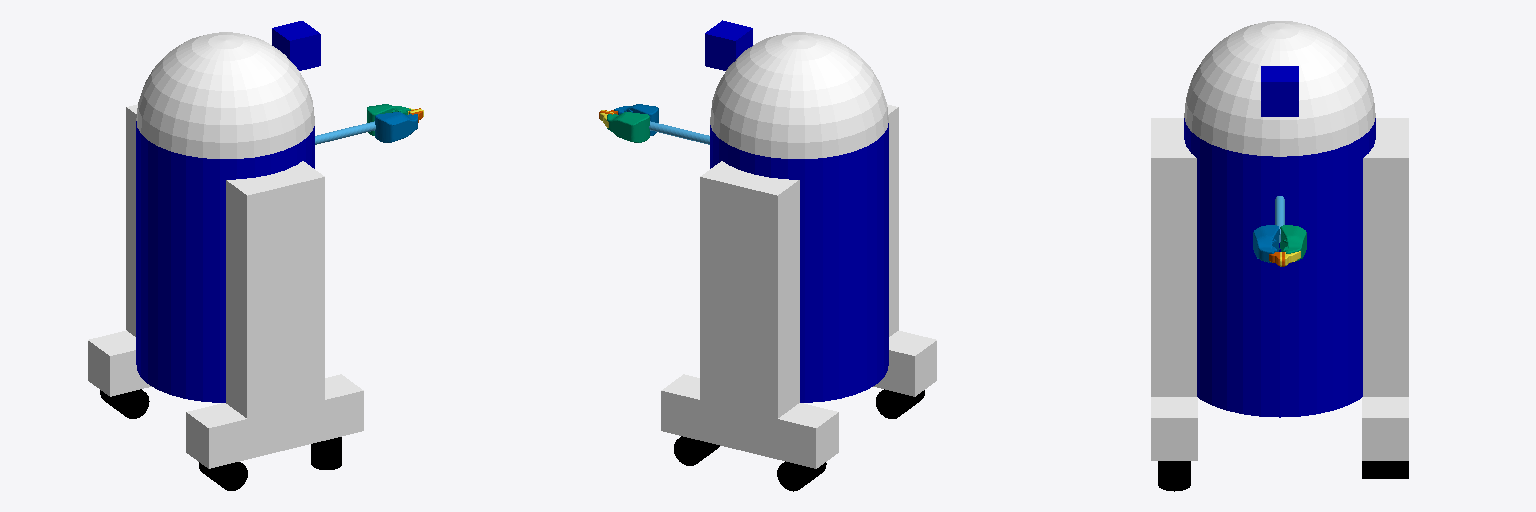
The robot description file, URDF, robot "visual":
<?xml version="1.0"?>
<robot name="visual">

	<material name="blue">
		<color rgba="0 0 0.8 1"/>
	</material>
	<material name="black">
		<color rgba="0 0 0 1"/>
	</material>
	<material name="white">
		<color rgba="1 1 1 1"/>
	</material>

	<link name="base_link">
		<visual>
			<geometry>
				<cylinder length="0.6" radius="0.2"/>
			</geometry>
			<material name="blue"/>
		</visual>
	</link>

	<link name="right_leg">
		<visual>
			<geometry>
				<box size="0.6 0.1 0.2"/>
			</geometry>
			<origin rpy="0 1.57075 0" xyz="0 0 -0.3"/>
			<material name="white"/>
		</visual>
	</link>

	<joint name="base_to_right_leg" type="fixed">
		<parent link="base_link"/>
		<child link="right_leg"/>
		<origin xyz="0 -0.22 0.25"/>
	</joint>

	<link name="right_base">
		<visual>
			<geometry>
				<box size="0.4 0.1 0.1"/>
			</geometry>
			<material name="white"/>
		</visual>
	</link>

	<joint name="right_base_joint" type="fixed">
		<parent link="right_leg"/>
		<child link="right_base"/>
		<origin xyz="0 0 -0.6"/>
	</joint>

	<link name="right_front_wheel">
		<visual>
			<origin rpy="1.57075 0 0" xyz="0 0 0"/>
			<geometry>
				<cylinder length="0.1" radius="0.035"/>
			</geometry>
			<material name="black"/>
			<origin rpy="0 0 0" xyz="0 0 0"/>
		</visual>
	</link>
	<joint name="right_front_wheel_joint" type="fixed">
		<parent link="right_base"/>
		<child link="right_front_wheel"/>
		<origin rpy="0 0 0" xyz="0.133333333333 0 -0.085"/>
	</joint>

	<link name="right_back_wheel">
		<visual>
			<origin rpy="1.57075 0 0" xyz="0 0 0"/>
			<geometry>
				<cylinder length="0.1" radius="0.035"/>
			</geometry>
			<material name="black"/>
		</visual>
	</link>
	<joint name="right_back_wheel_joint" type="fixed">
		<parent link="right_base"/>
		<child link="right_back_wheel"/>
		<origin rpy="0 0 0" xyz="-0.133333333333 0 -0.085"/>
	</joint>

	<link name="left_leg">
		<visual>
			<geometry>
				<box size="0.6 0.1 0.2"/>
			</geometry>
			<origin rpy="0 1.57075 0" xyz="0 0 -0.3"/>
			<material name="white"/>
		</visual>
	</link>

	<joint name="base_to_left_leg" type="fixed">
		<parent link="base_link"/>
		<child link="left_leg"/>
		<origin xyz="0 0.22 0.25"/>
	</joint>

	<link name="left_base">
		<visual>
			<geometry>
				<box size="0.4 0.1 0.1"/>
			</geometry>
			<material name="white"/>
		</visual>
	</link>

	<joint name="left_base_joint" type="fixed">
		<parent link="left_leg"/>
		<child link="left_base"/>
		<origin xyz="0 0 -0.6"/>
	</joint>

	<link name="left_front_wheel">
		<visual>
			<origin rpy="1.57075 0 0" xyz="0 0 0"/>
			<geometry>
				<cylinder length="0.1" radius="0.035"/>
			</geometry>
			<material name="black"/>
		</visual>
	</link>
	<joint name="left_front_wheel_joint" type="fixed">
		<parent link="left_base"/>
		<child link="left_front_wheel"/>
		<origin rpy="0 0 0" xyz="0.133333333333 0 -0.085"/>
	</joint>

	<link name="left_back_wheel">
		<visual>
			<origin rpy="1.57075 0 0" xyz="0 0 0"/>
			<geometry>
				<cylinder length="0.1" radius="0.035"/>
			</geometry>
			<material name="black"/>
		</visual>
	</link>
	<joint name="left_back_wheel_joint" type="fixed">
		<parent link="left_base"/>
		<child link="left_back_wheel"/>
		<origin rpy="0 0 0" xyz="-0.133333333333 0 -0.085"/>
	</joint>

	<joint name="gripper_extension" type="fixed">
		<parent link="base_link"/>
		<child link="gripper_pole"/>
		<origin rpy="0 0 0" xyz="0.19 0 0.2"/>
	</joint>

	<link name="gripper_pole">
		<visual>
			<geometry>
				<cylinder length="0.2" radius="0.01"/>
			</geometry>
			<origin rpy="0 1.57075 0 " xyz="0.1 0 0"/>
		</visual>
	</link>

	<joint name="left_gripper_joint" type="fixed">
		<origin rpy="0 0 0" xyz="0.2 0.01 0"/>
		<parent link="gripper_pole"/>
		<child link="left_gripper"/>
	</joint>

	<link name="left_gripper">
		<visual>
			<origin rpy="0.0 0 0" xyz="0 0 0"/>
			<geometry>
				<mesh filename="l_finger.dae"/>
			</geometry>
		</visual>
	</link>

	<joint name="left_tip_joint" type="fixed">
		<parent link="left_gripper"/>
		<child link="left_tip"/>
	</joint>

	<link name="left_tip">
		<visual>
			<origin rpy="0.0 0 0" xyz="0.09137 0.00495 0"/>
			<geometry>
				<mesh filename="l_finger_tip.dae"/>
			</geometry>
		</visual>
	</link>
	<joint name="right_gripper_joint" type="fixed">
		<origin rpy="0 0 0" xyz="0.2 -0.01 0"/>
		<parent link="gripper_pole"/>
		<child link="right_gripper"/>
	</joint>

	<link name="right_gripper">
		<visual>
			<origin rpy="-3.1415 0 0" xyz="0 0 0"/>
			<geometry>
				<mesh filename="l_finger.dae"/>
			</geometry>
		</visual>
	</link>

	<joint name="right_tip_joint" type="fixed">
		<parent link="right_gripper"/>
		<child link="right_tip"/>
	</joint>

	<link name="right_tip">
		<visual>
			<origin rpy="-3.1415 0 0" xyz="0.09137 0.00495 0"/>
			<geometry>
				<mesh filename="l_finger_tip.dae"/>
			</geometry>
		</visual>
	</link>

	<link name="head">
		<visual>
			<geometry>
				<sphere radius="0.2"/>
			</geometry>
			<material name="white"/>
		</visual>
	</link>
	<joint name="head_swivel" type="fixed">
		<parent link="base_link"/>
		<child link="head"/>
		<origin xyz="0 0 0.3"/>
	</joint>

	<link name="box">
		<visual>
			<geometry>
				<box size="0.08 0.08 0.08"/>
			</geometry>
			<material name="blue"/>
		</visual>
	</link>

	<joint name="tobox" type="fixed">
		<parent link="head"/>
		<child link="box"/>
		<origin xyz="0.1814 0 0.1414"/>
	</joint>
</robot>

--- Facts derived from the render (not from the file) ---
Views: 3 orthographic renders of the robot side by side, from view 1: azimuth 30°, elevation 25°; view 2: azimuth 150°, elevation 25°; view 3: azimuth 270°, elevation 25°.
Robot: visual — 16 links, 15 joints (15 fixed); root link base_link; default pose: every joint at zero.
Visible links, largest first — view 1: right_leg, base_link, head, right_base, left_base, left_leg, box, right_gripper, left_back_wheel, right_back_wheel, right_front_wheel, gripper_pole; view 2: left_leg, base_link, head, left_base, right_base, right_leg, box, left_gripper, left_back_wheel, right_back_wheel, left_front_wheel, gripper_pole; view 3: base_link, head, right_leg, left_leg, right_base, left_base, box, right_front_wheel, left_front_wheel, right_gripper, left_gripper.
Boxes of the visible links, box(x1,y1,x2,y2) form: right_leg: box(226, 161, 324, 437); base_link: box(136, 121, 314, 402); head: box(136, 32, 314, 158); right_base: box(186, 374, 363, 468); left_base: box(88, 330, 151, 396); left_leg: box(126, 104, 137, 336); box: box(272, 21, 320, 70); right_gripper: box(375, 112, 417, 142); left_back_wheel: box(100, 389, 149, 418); right_back_wheel: box(199, 462, 247, 490); right_front_wheel: box(311, 437, 341, 469); gripper_pole: box(315, 121, 375, 144); left_leg: box(700, 161, 799, 438); base_link: box(710, 123, 888, 402); head: box(710, 32, 888, 158); left_base: box(661, 374, 838, 468); right_base: box(873, 331, 936, 396); right_leg: box(887, 104, 898, 336); box: box(705, 20, 752, 70); left_gripper: box(607, 112, 649, 142); left_back_wheel: box(777, 461, 826, 491); right_back_wheel: box(876, 389, 924, 418); left_front_wheel: box(674, 436, 719, 465); gripper_pole: box(649, 121, 709, 144); base_link: box(1184, 118, 1375, 417); head: box(1184, 21, 1375, 156); right_leg: box(1151, 118, 1196, 396); left_leg: box(1363, 118, 1408, 396); right_base: box(1151, 397, 1197, 460); left_base: box(1362, 397, 1408, 460); box: box(1261, 66, 1298, 116); right_front_wheel: box(1158, 461, 1190, 491); left_front_wheel: box(1362, 461, 1408, 478); right_gripper: box(1253, 225, 1279, 262); left_gripper: box(1280, 225, 1306, 261).
Bounding box of the posed robot: 0.7126 × 0.54 × 0.985 m (x, y, z).
Meshes: 2 distinct files referenced, 4 mesh visuals loaded (2 Collada DAE).